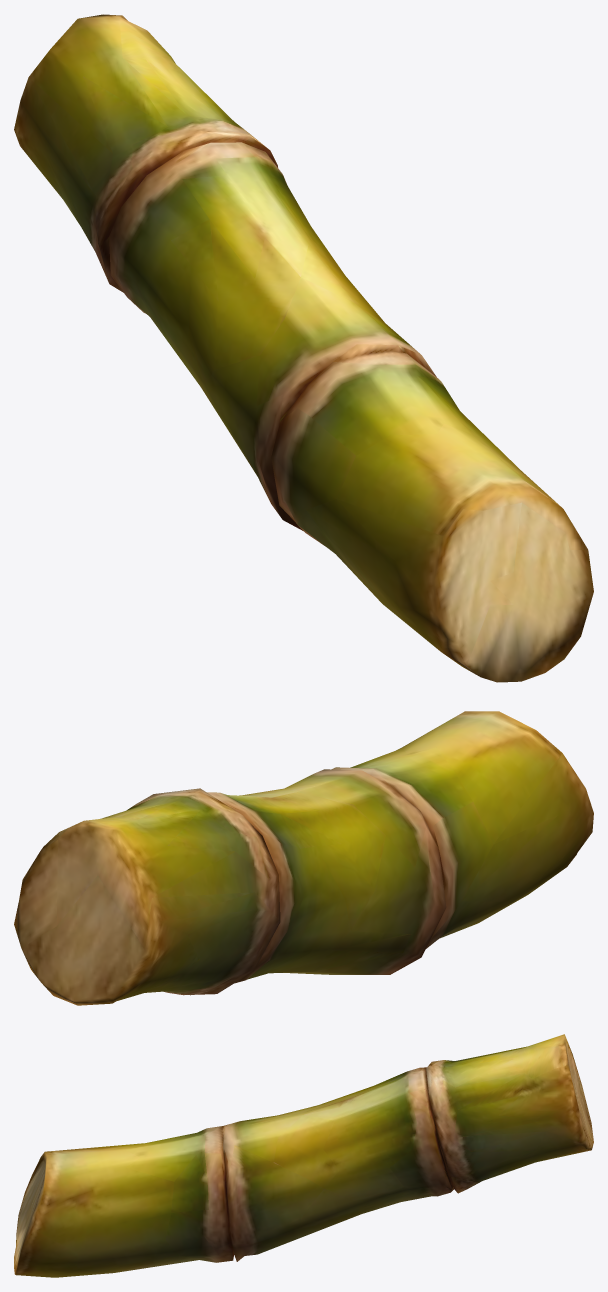
The model's file is cana-mobile.glb.
3 views of the same model, one above another, from view 1: azimuth 30°, elevation 25°; view 2: azimuth 150°, elevation 25°; view 3: azimuth 270°, elevation 25° (orthographic). The views are drawn at different scales.
Visible parts, largest first — view 1: tripo_node_be13d86d-3cf3-488c-bdc0-e0da7d4818d5; view 2: tripo_node_be13d86d-3cf3-488c-bdc0-e0da7d4818d5; view 3: tripo_node_be13d86d-3cf3-488c-bdc0-e0da7d4818d5.
Boxes of the visible parts, x1,y1,x2,y2 form: tripo_node_be13d86d-3cf3-488c-bdc0-e0da7d4818d5: [14, 14, 593, 682]; tripo_node_be13d86d-3cf3-488c-bdc0-e0da7d4818d5: [14, 711, 593, 1005]; tripo_node_be13d86d-3cf3-488c-bdc0-e0da7d4818d5: [14, 1034, 593, 1277].
Bounding box in the file's own units: 0.2314 × 0.4309 × 0.9825.
1 material, 1 textured.
